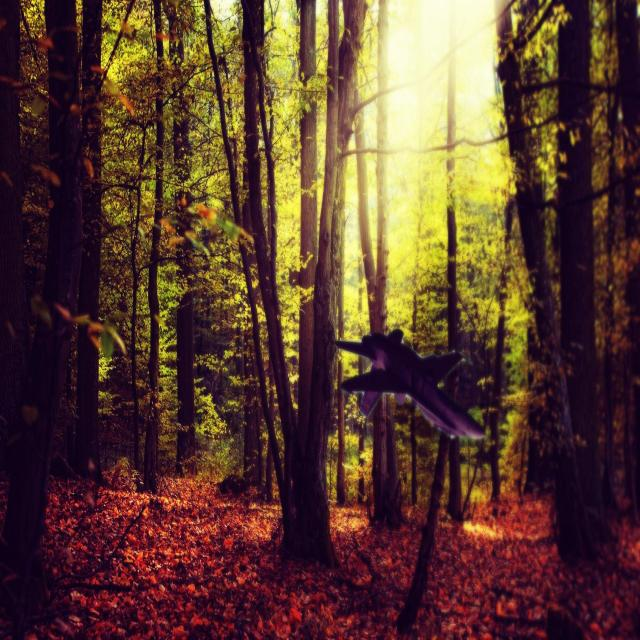airplane: (334, 327, 486, 442)
